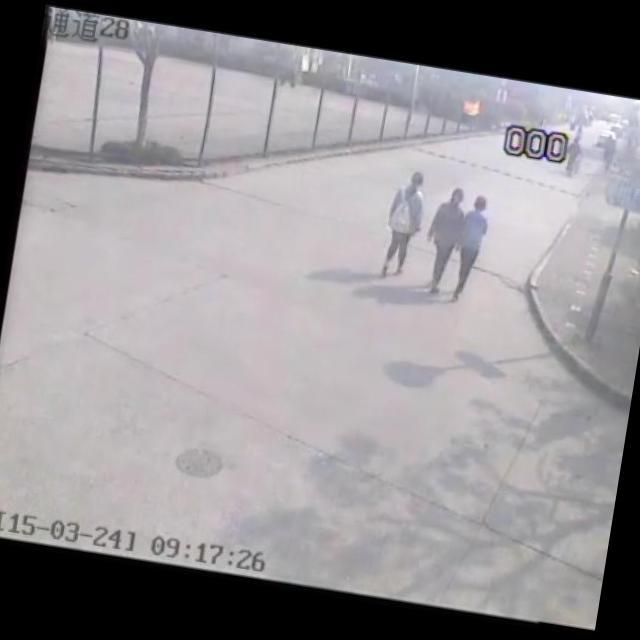person: (442, 185, 516, 309), (366, 151, 432, 290), (425, 168, 468, 306)
